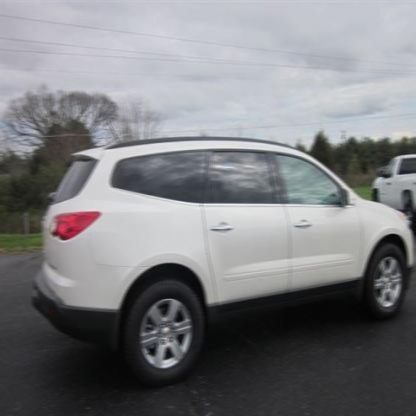Vehicle: (30, 133, 416, 384)
